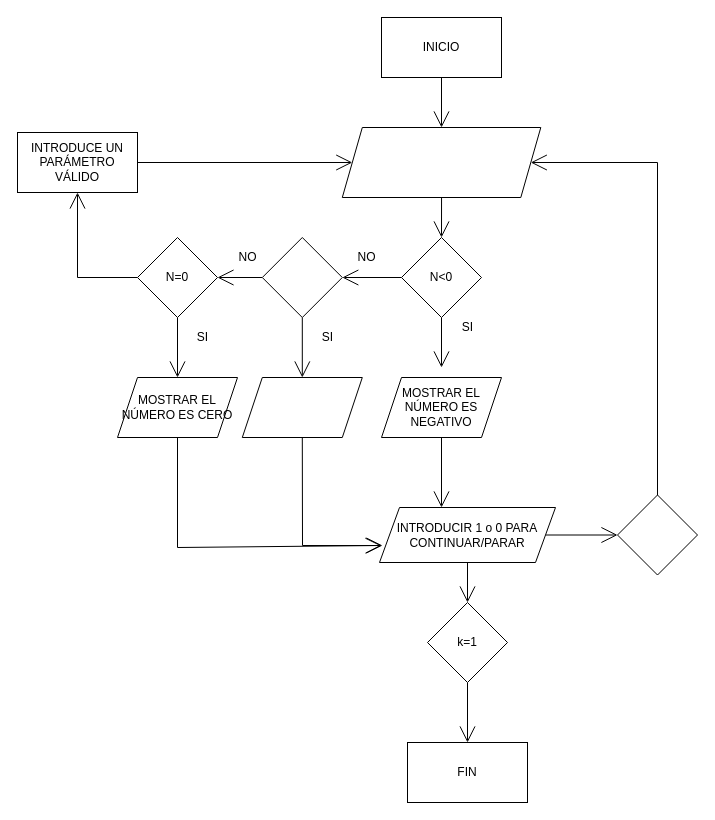
Image size: 715x820. Some labels were removed from this diagram. Each missing label, with the box of its shape:
INTRODUCE NÚMERO PARA SABER SI ES POSITIVO O NEGATIVO - N: (341, 126, 541, 198)
k=0: (616, 494, 698, 575)
MOSTRAR EL NÚMERO ES POSITIVO: (241, 376, 362, 438)
N>0: (261, 236, 342, 318)
